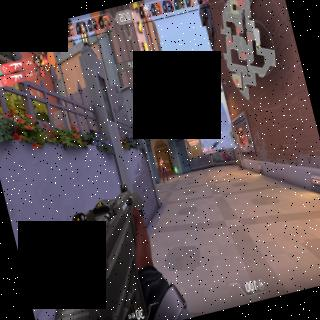ENEMY-BODY: (157, 154, 170, 184)
ENEMY-HEAD: (159, 156, 162, 160)
